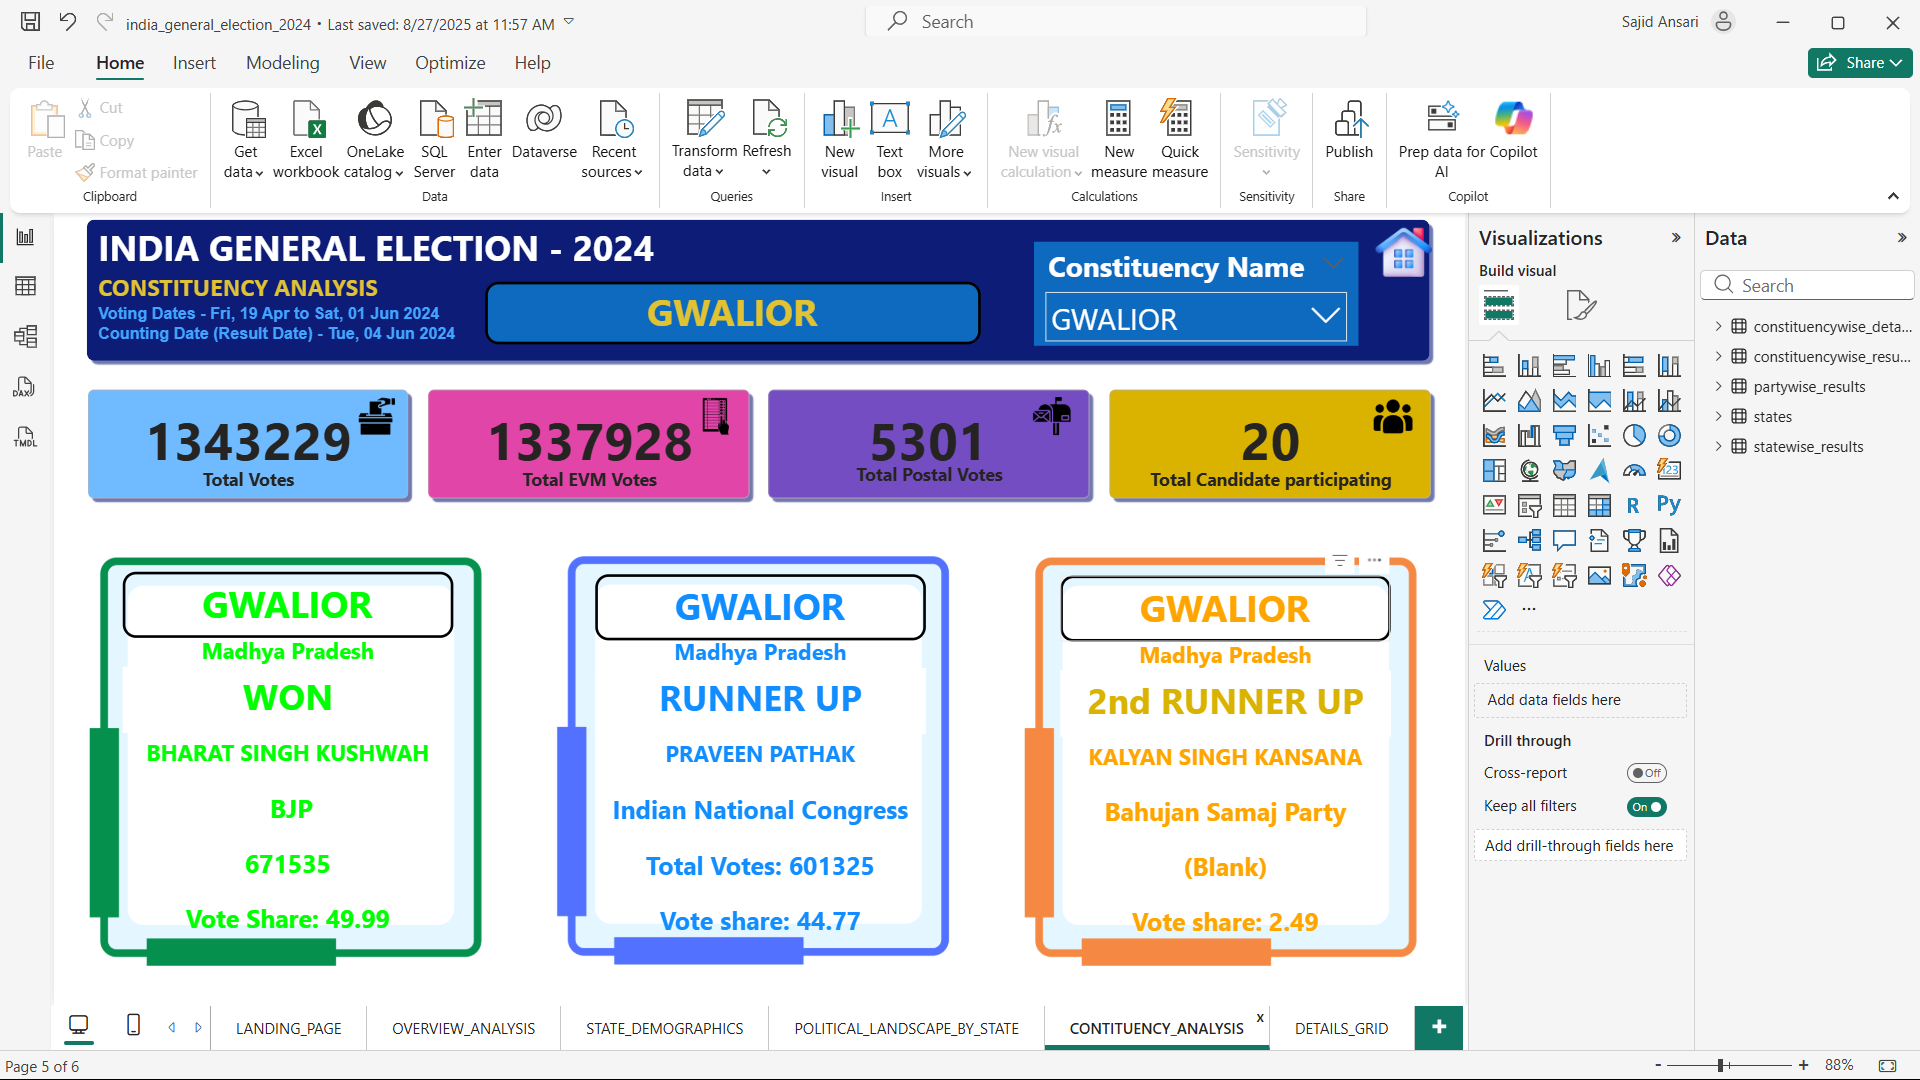

What the dashboard file says about the page in this screenshot:
{"tool":"powerbi","page":{"name":"CONTITUENCY_ANALYSIS","canvas":[1280,720],"ordinal":4},"visuals":[{"type":"shape","box":[24.1,0,1230.3,140.1],"z":0},{"type":"shape","box":[24.7,154.1,302.4,110.6],"z":1000},{"type":"textbox","box":[35.2,4.5,583,136.1],"z":2000},{"type":"slicer","fields":{"Values":["constituencywise_results.Constituency Name"]},"box":[889.4,25.9,294.1,94.1],"z":3000},{"type":"card","fields":{"Values":["Min(constituencywise_results.Constituency Name)"]},"box":[391.8,62.4,449.4,56.5],"z":4000},{"type":"shape","box":[332.9,154.1,303.5,110.6],"z":5000},{"type":"shape","box":[642.4,154.1,303.5,110.6],"z":6000},{"type":"shape","box":[951.8,154.1,303.5,110.6],"z":7000},{"type":"card","fields":{"Values":["Sum(constituencywise_details.Total Votes)"]},"box":[34.1,177.4,284.7,55.3],"z":8000},{"type":"image","box":[252.9,162.2,80,45],"z":9000},{"type":"image","box":[865.9,162.4,80,44.7],"z":10000},{"type":"image","box":[560,162.4,80,44.7],"z":11000},{"type":"image","box":[1175.3,162.4,80,44.7],"z":12000},{"type":"textbox","box":[114.1,225.9,123.5,38.8],"z":13000},{"type":"card","fields":{"Values":["Sum(constituencywise_details.EVM Votes)"]},"box":[343.4,177.4,284.7,55.3],"z":14000},{"type":"textbox","box":[405.9,225.9,160,38.8],"z":15000},{"type":"card","fields":{"Values":["Sum(constituencywise_details.Postal Votes)"]},"box":[651.2,177.4,284.7,55.3],"z":16000},{"type":"textbox","box":[720,221.2,148.2,38.8],"z":17000},{"type":"card","fields":{"Values":["CountNonNull(constituencywise_details.Constituency ID)"]},"box":[961.8,177.4,284.7,55.3],"z":18000},{"type":"textbox","box":[974.1,225.9,260,38.8],"z":19000},{"type":"image","box":[448.8,291.8,380,410],"z":20000},{"type":"image","box":[872.9,292.9,380,410],"z":21000},{"type":"image","box":[24.7,292.9,380,410],"z":22000},{"type":"card","fields":{"Values":["Min(constituencywise_results.Constituency Name)"]},"box":[62.1,325.9,300,60],"z":23000},{"type":"card","fields":{"Values":["constituencywise_details.State sec kpi"]},"box":[62.1,376,300,45],"z":24000},{"type":"textbox","box":[62.1,411.2,300,60],"z":25000},{"type":"card","fields":{"Values":["Min(statewise_results.Leading Candidate)"]},"box":[62.1,461.3,300,60],"z":26000},{"type":"card","fields":{"Values":["Min(constituencywise_results.Party Short Name)"]},"box":[62.1,511.5,300,60],"z":27000},{"type":"card","fields":{"Values":["Sum(constituencywise_results.Total Votes)"]},"box":[62.1,561.6,300,60],"z":28000},{"type":"card","fields":{"Values":["constituencywise_details.vote % kpi"]},"box":[62.1,611.8,300,60],"z":29000},{"type":"card","fields":{"Values":["Min(constituencywise_results.Constituency Name)"]},"box":[491.5,327.4,300,60],"z":30000},{"type":"card","fields":{"Values":["constituencywise_details.State sec kpi"]},"box":[491.5,377.6,300,45],"z":31000},{"type":"textbox","box":[491.5,412.7,300,60],"z":32000},{"type":"card","fields":{"Values":["constituencywise_details.RUNNER UP"]},"box":[491.5,462.9,300,60],"z":33000},{"type":"card","fields":{"Values":["constituencywise_details.RUNNER UP Party"]},"box":[491.5,513,300,60],"z":34000},{"type":"card","fields":{"Values":["constituencywise_details.RUNNER UP Votes"]},"box":[491.5,563.1,300,60],"z":35000},{"type":"card","fields":{"Values":["constituencywise_details.RUNNER UP vote share"]},"box":[491.5,613.3,300,60],"z":36000},{"type":"card","fields":{"Values":["Min(constituencywise_results.Constituency Name)"]},"box":[912.7,329.3,300,60],"z":37000},{"type":"card","fields":{"Values":["constituencywise_details.State sec kpi"]},"box":[912.7,379.4,300,45],"z":38000},{"type":"textbox","box":[912.7,414.6,300,60],"z":39000},{"type":"card","fields":{"Values":["constituencywise_details.Second RUNNER UP"]},"box":[912.7,464.7,300,60],"z":40000},{"type":"card","fields":{"Values":["constituencywise_details.Second RUNNER UP Party"]},"box":[912.7,514.9,300,60],"z":41000},{"type":"card","fields":{"Values":["constituencywise_details.Second RUNNER UP Votes"]},"box":[912.7,565,300,60],"z":42000},{"type":"card","fields":{"Values":["constituencywise_details.Second RUNNER UP vote share"]},"box":[912.7,615.2,300,60],"z":43000},{"type":"image","box":[1194.1,4.7,61.2,62.4],"z":44000}]}

Visuals, with their boxes on the page's 1280x720 design canvas (x1, y1, x2, y2). These are canvas units, not pixel positions in the 1920x1080 screenshot, which may show the page scaled, cropped or inside an application window:
shape: region(24, 0, 1254, 140)
shape: region(25, 154, 327, 265)
textbox: region(35, 4, 618, 141)
slicer - constituencywise_results.Constituency Name: region(889, 26, 1184, 120)
card - Min(constituencywise_results.Constituency Name): region(392, 62, 841, 119)
shape: region(333, 154, 636, 265)
shape: region(642, 154, 946, 265)
shape: region(952, 154, 1255, 265)
card - Sum(constituencywise_details.Total Votes): region(34, 177, 319, 233)
image: region(253, 162, 333, 207)
image: region(866, 162, 946, 207)
image: region(560, 162, 640, 207)
image: region(1175, 162, 1255, 207)
textbox: region(114, 226, 238, 265)
card - Sum(constituencywise_details.EVM Votes): region(343, 177, 628, 233)
textbox: region(406, 226, 566, 265)
card - Sum(constituencywise_details.Postal Votes): region(651, 177, 936, 233)
textbox: region(720, 221, 868, 260)
card - CountNonNull(constituencywise_details.Constituency ID): region(962, 177, 1246, 233)
textbox: region(974, 226, 1234, 265)
image: region(449, 292, 829, 702)
image: region(873, 293, 1253, 703)
image: region(25, 293, 405, 703)
card - Min(constituencywise_results.Constituency Name): region(62, 326, 362, 386)
card - constituencywise_details.State sec kpi: region(62, 376, 362, 421)
textbox: region(62, 411, 362, 471)
card - Min(statewise_results.Leading Candidate): region(62, 461, 362, 521)
card - Min(constituencywise_results.Party Short Name): region(62, 512, 362, 572)
card - Sum(constituencywise_results.Total Votes): region(62, 562, 362, 622)
card - constituencywise_details.vote % kpi: region(62, 612, 362, 672)
card - Min(constituencywise_results.Constituency Name): region(492, 327, 792, 387)
card - constituencywise_details.State sec kpi: region(492, 378, 792, 423)
textbox: region(492, 413, 792, 473)
card - constituencywise_details.RUNNER UP: region(492, 463, 792, 523)
card - constituencywise_details.RUNNER UP Party: region(492, 513, 792, 573)
card - constituencywise_details.RUNNER UP Votes: region(492, 563, 792, 623)
card - constituencywise_details.RUNNER UP vote share: region(492, 613, 792, 673)
card - Min(constituencywise_results.Constituency Name): region(913, 329, 1213, 389)
card - constituencywise_details.State sec kpi: region(913, 379, 1213, 424)
textbox: region(913, 415, 1213, 475)
card - constituencywise_details.Second RUNNER UP: region(913, 465, 1213, 525)
card - constituencywise_details.Second RUNNER UP Party: region(913, 515, 1213, 575)
card - constituencywise_details.Second RUNNER UP Votes: region(913, 565, 1213, 625)
card - constituencywise_details.Second RUNNER UP vote share: region(913, 615, 1213, 675)
image: region(1194, 5, 1255, 67)
